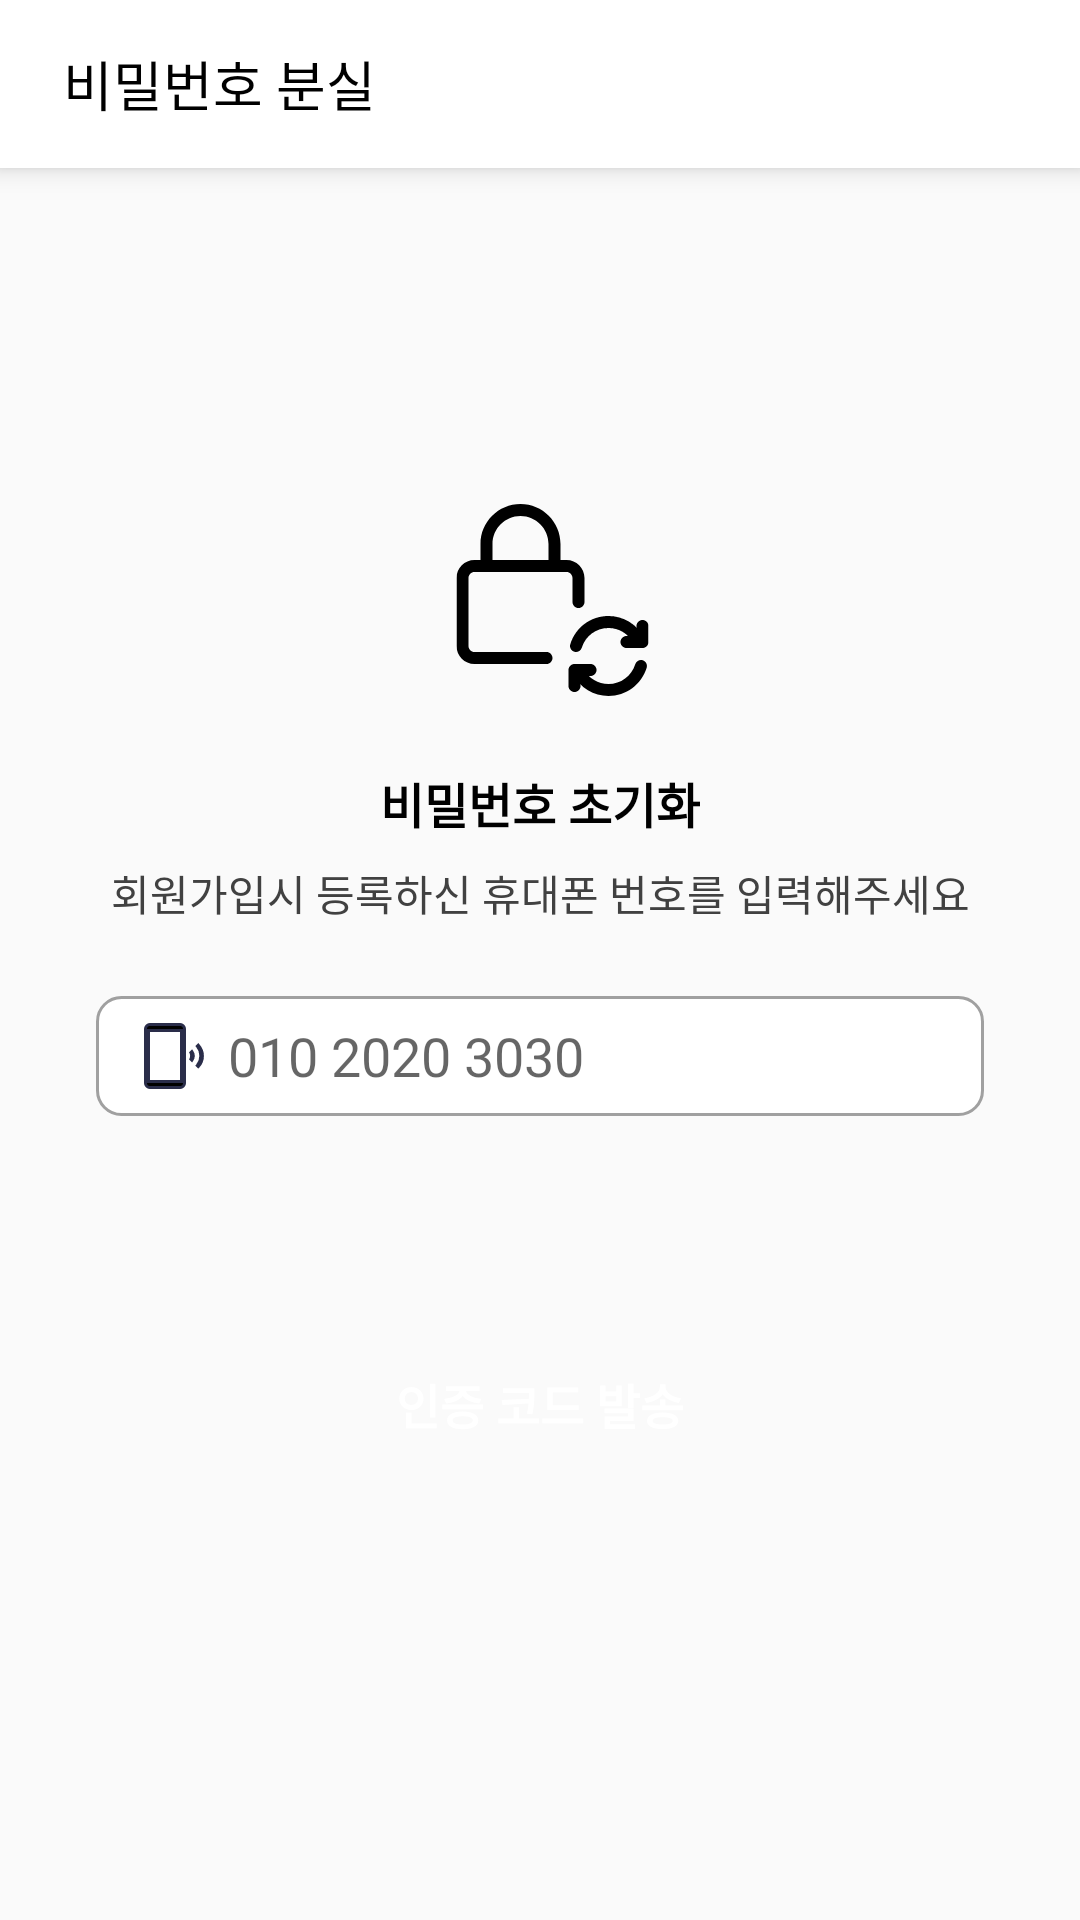

Named icons in this screenshot (1080px×1920px) and their bounding boxes, (x1, y1, x2, y2):
lost password: (456, 504, 649, 696)
